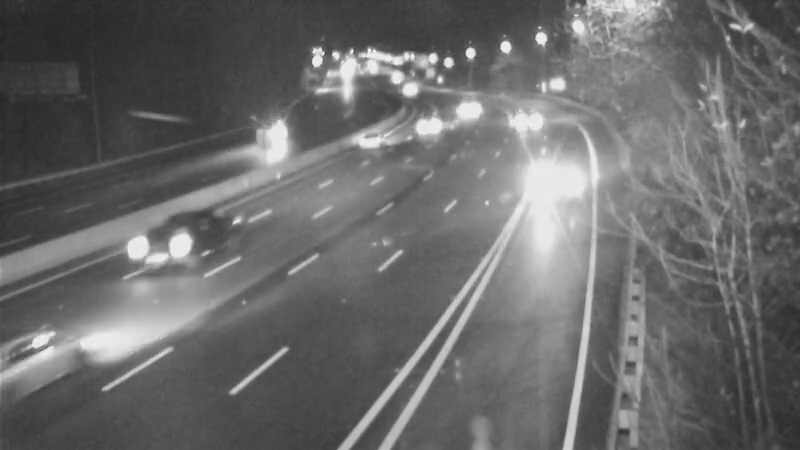vehicle: (1, 308, 99, 418), (519, 139, 599, 219), (129, 203, 209, 283), (379, 61, 429, 111), (441, 84, 491, 134), (502, 97, 552, 147), (403, 100, 453, 150), (346, 115, 396, 165), (254, 110, 304, 160)
